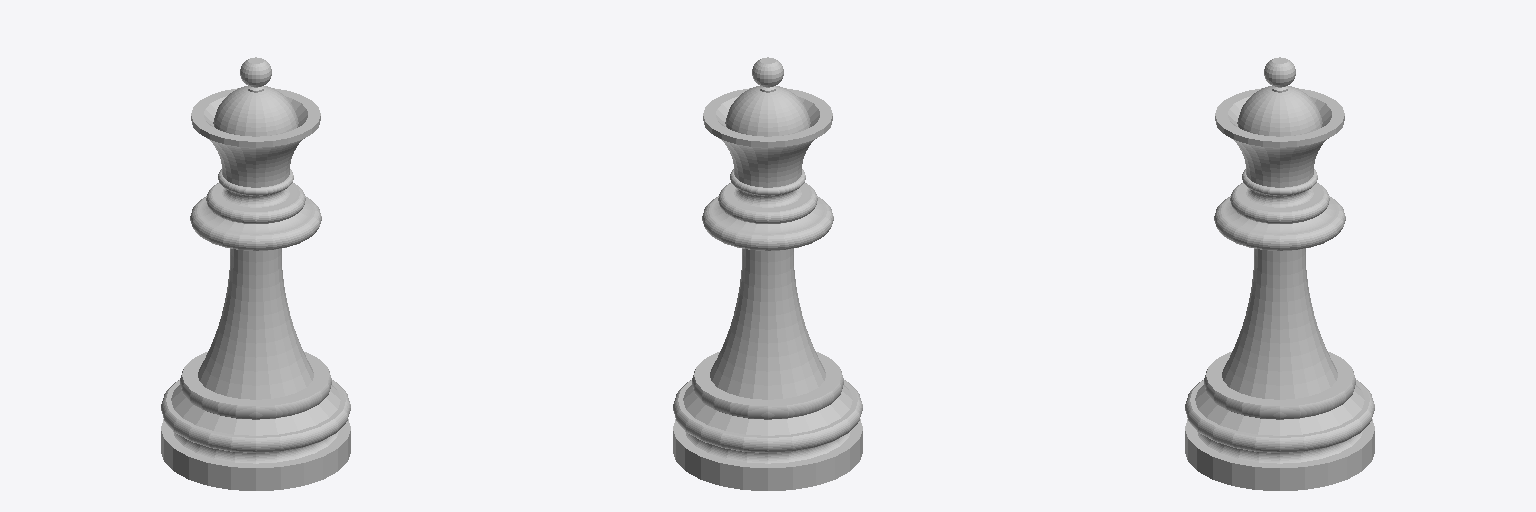
File: rainha.obj
3 views of the same model, side by side, from view 1: azimuth 30°, elevation 25°; view 2: azimuth 150°, elevation 25°; view 3: azimuth 270°, elevation 25° (orthographic).
Parts seen in each view (by area): view 1: object_1; view 2: object_1; view 3: object_1.
Boxes of the visible parts, x1=… form: object_1: x1=161, y1=57, x2=350, y2=490; object_1: x1=673, y1=57, x2=862, y2=490; object_1: x1=1185, y1=57, x2=1374, y2=490.
Bounding box in the file's own units: 0.0569 × 0.1285 × 0.0569.